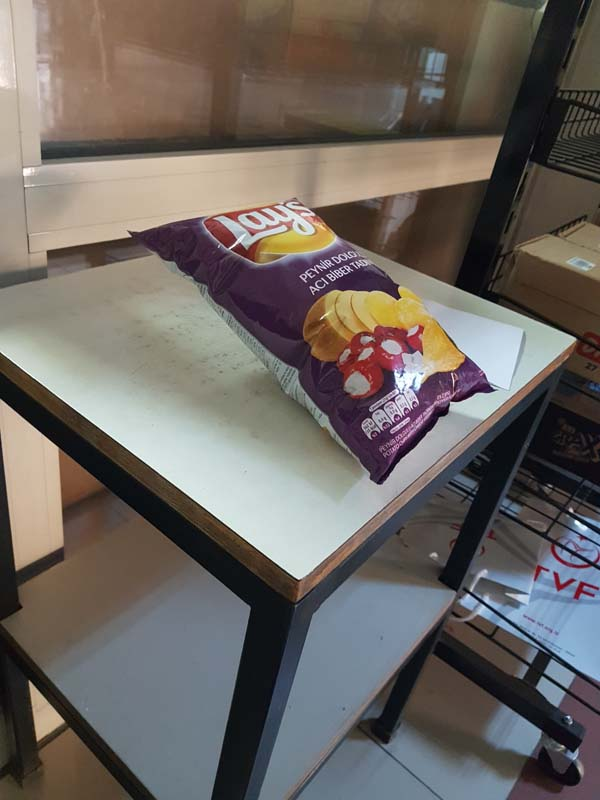layspeynirsoslu: (125, 195, 498, 486)
